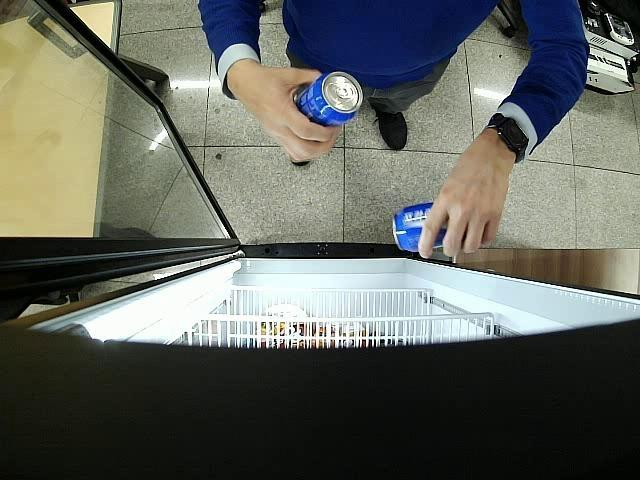13_pocariSweat: (294, 73, 362, 126), (392, 202, 448, 252)
